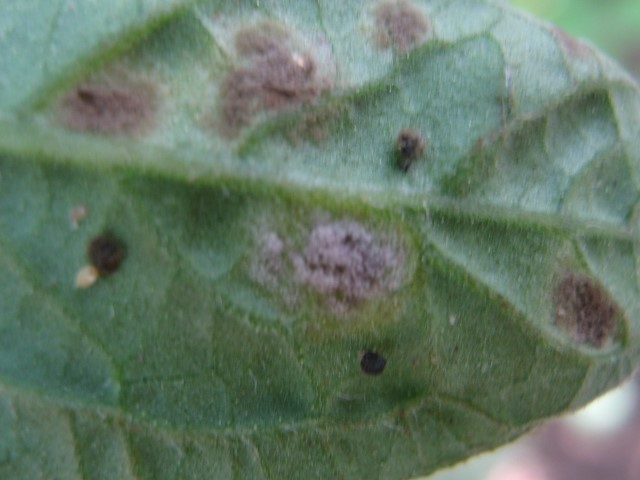cladosporium: (201, 22, 341, 157), (290, 208, 409, 315), (64, 64, 159, 144), (536, 262, 619, 351), (361, 6, 442, 59), (86, 227, 134, 282), (395, 128, 419, 168)
